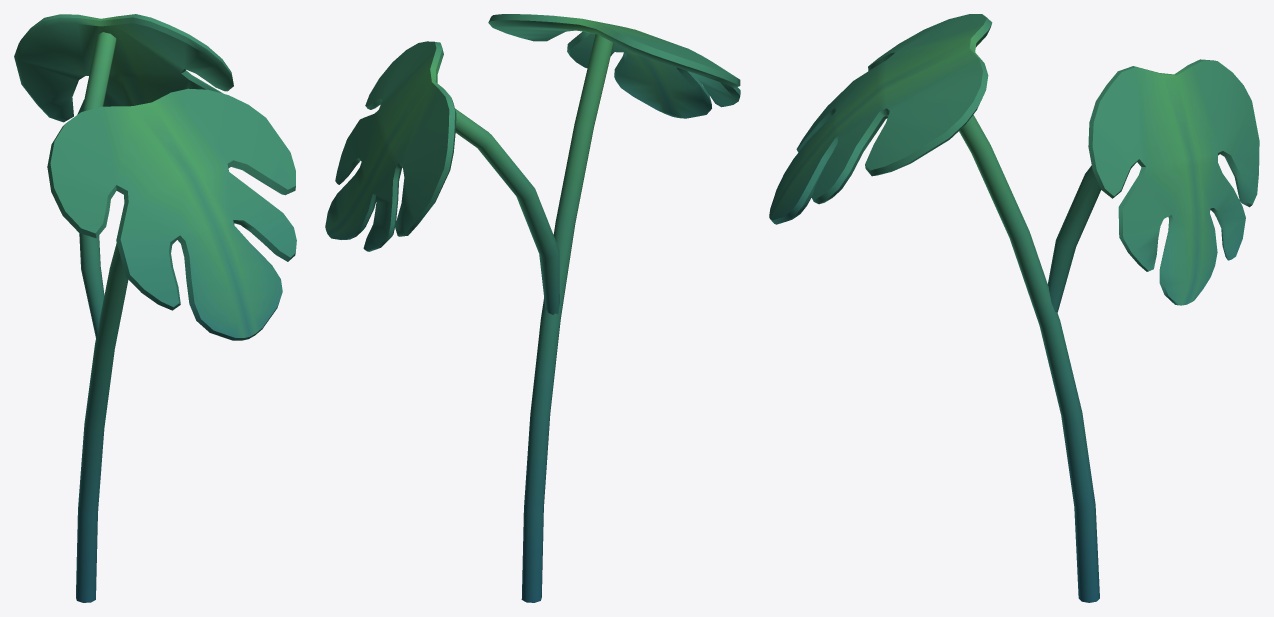
The model's file is monstera.glb.
3 renders of one model, left to right at view 1: azimuth 30°, elevation 25°; view 2: azimuth 150°, elevation 25°; view 3: azimuth 270°, elevation 25°, orthographic. The views are drawn at different scales.
Parts seen in each view (by area): view 1: monstera_leaf_large_D; view 2: monstera_leaf_large_D; view 3: monstera_leaf_large_D.
Part boxes in pixels (x1,y1,x2,y2): monstera_leaf_large_D: (14,14,296,602); monstera_leaf_large_D: (325,14,740,602); monstera_leaf_large_D: (769,14,1259,602).
Bounding box in the file's own units: 1.58 × 2.92 × 2.28.
Materials: 1 (1 with a texture image).
